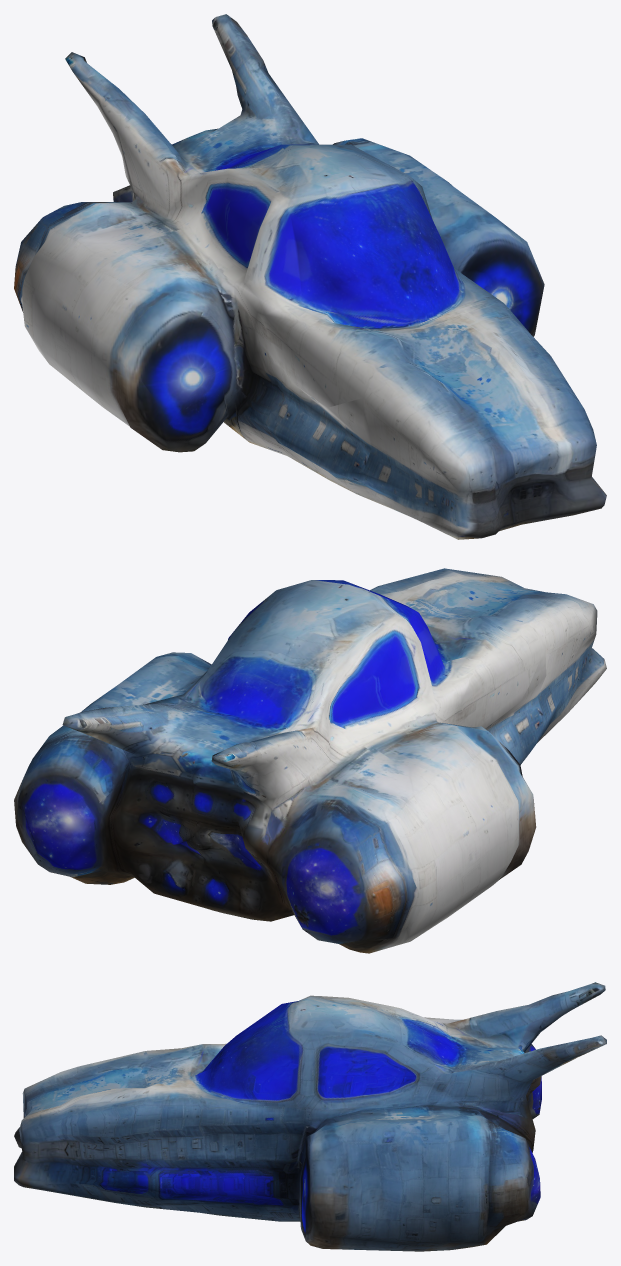
File: Blue_ship.glb
3 renders of one model, top to bottom at view 1: azimuth 30°, elevation 25°; view 2: azimuth 150°, elevation 25°; view 3: azimuth 270°, elevation 25°, orthographic. The views are drawn at different scales.
Bounding box in the file's own units: 0.731 × 0.4213 × 1.2.
Materials: 1 (1 with a texture image).
